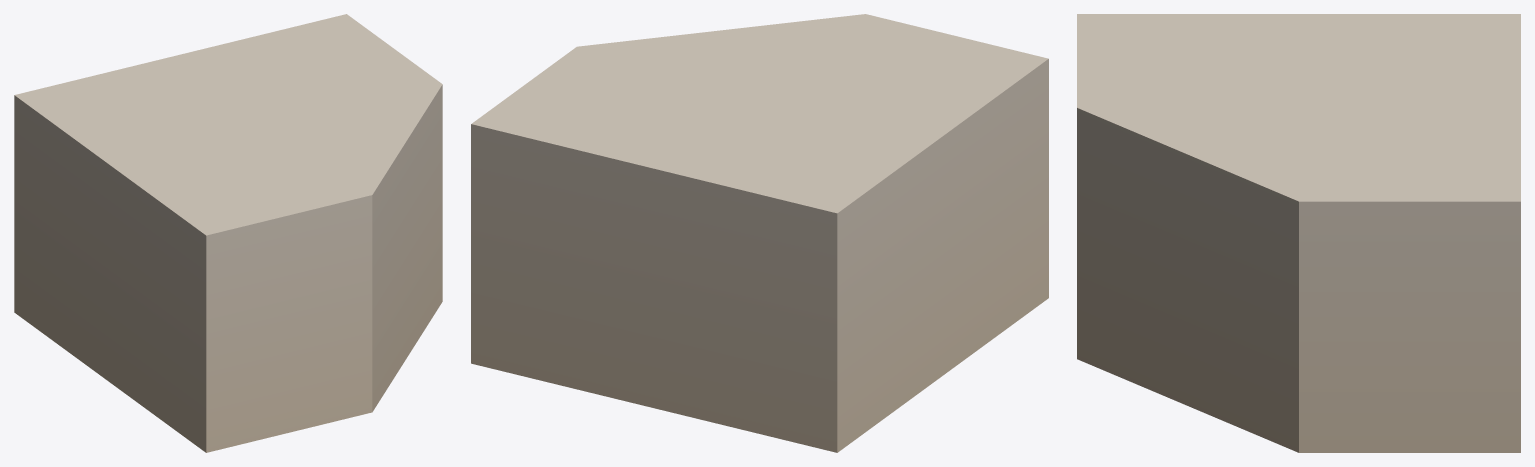
File: building-corner.glb
The picture shows the model from 3 angles, left to right: view 1: azimuth 30°, elevation 25°; view 2: azimuth 150°, elevation 25°; view 3: azimuth 270°, elevation 25°; orthographic projection. The views are drawn at different scales.
Parts seen in each view (by area): view 1: building-corner; view 2: building-corner; view 3: building-corner.
Part boxes in pixels (box(x1,y1,x2,y2)): building-corner: box(14, 14, 442, 452); building-corner: box(471, 14, 1048, 452); building-corner: box(1077, 14, 1520, 452).
Size of the model in its own units: 1 by 0.625 by 1.
